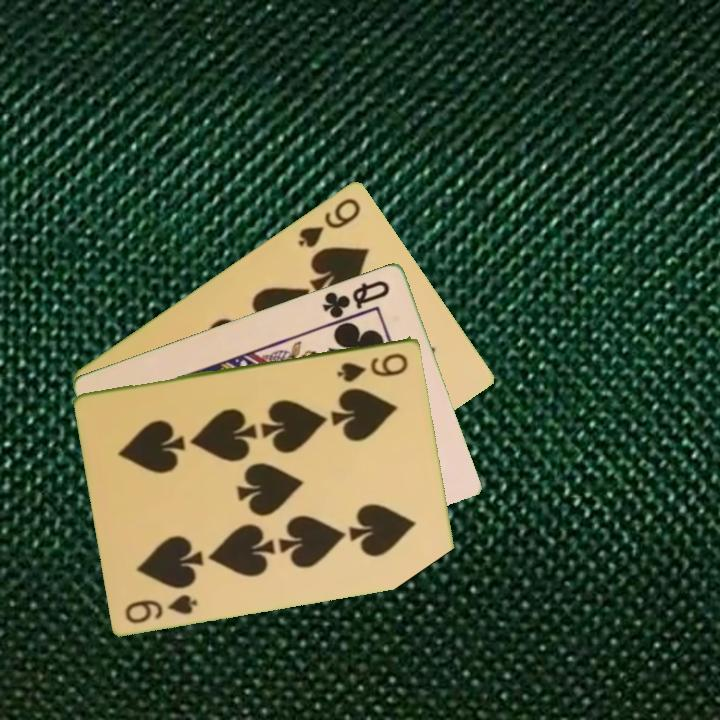9s: (294, 193, 364, 251), (121, 590, 201, 626), (333, 349, 411, 385)
Qc: (318, 276, 393, 326)
